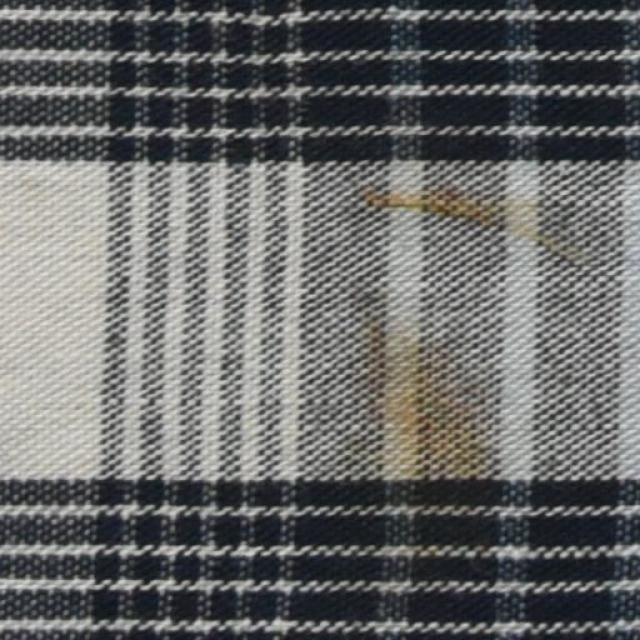Stain: (355, 318, 479, 480), (348, 171, 561, 262)
